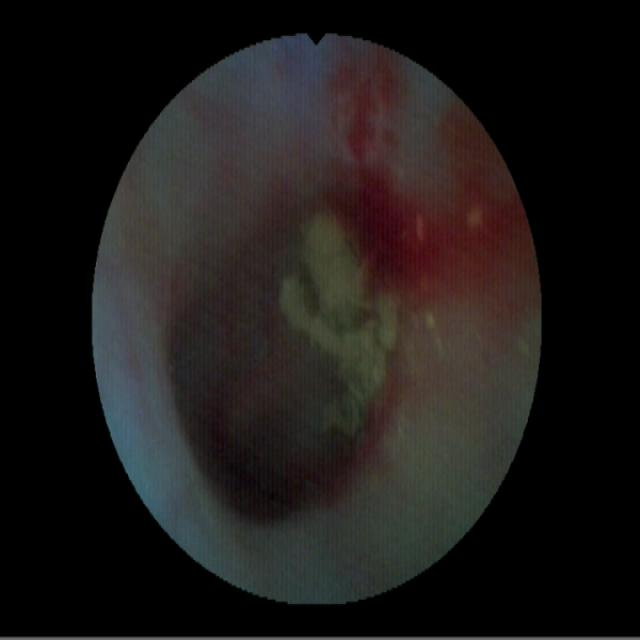stone: (280, 212, 394, 446)
tissue: (99, 41, 536, 588)
